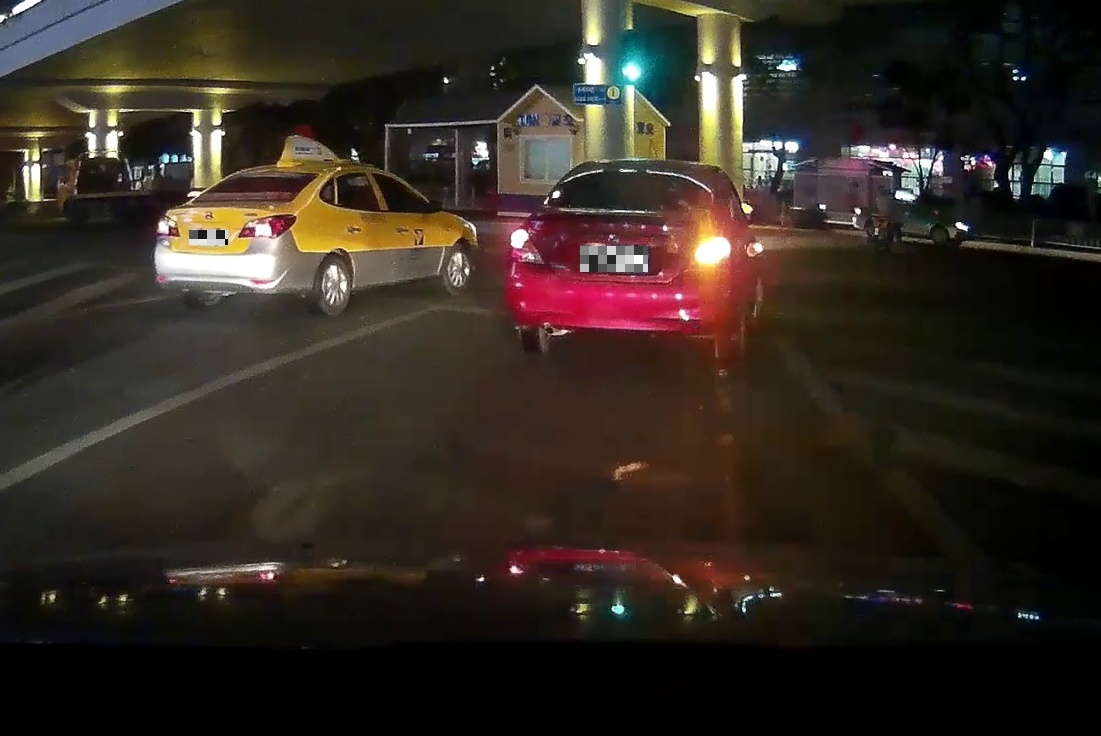L_light: (510, 228, 545, 265), (155, 213, 180, 237)
R_light: (686, 236, 731, 272), (237, 212, 297, 239)
T_light: (627, 172, 647, 179), (262, 173, 281, 180)
night-no: (154, 162, 319, 316)
night-right: (500, 158, 749, 361)
plate_1: (189, 230, 228, 245)
plate_2: (580, 246, 648, 272)
